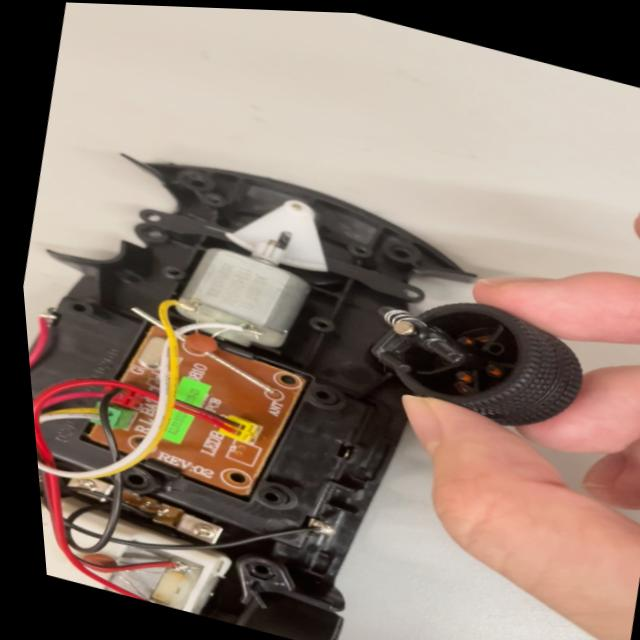motor: (151, 210, 334, 370)
wheel: (363, 271, 596, 450)
